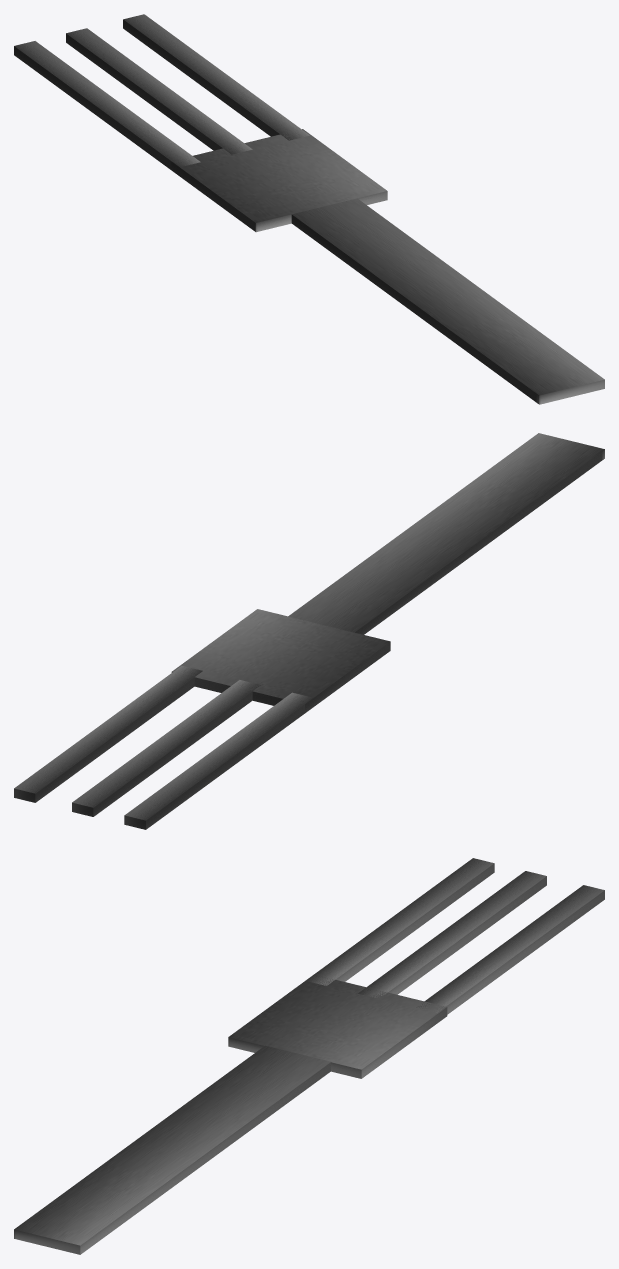
Rendered from Fork.glb.
The picture shows the model from 3 angles, top to bottom: view 1: azimuth 30°, elevation 25°; view 2: azimuth 150°, elevation 25°; view 3: azimuth 330°, elevation 25°; orthographic projection.
Parts seen in each view (by area): view 1: Cube.004; view 2: Cube.004; view 3: Cube.004.
Part boxes in pixels (x1=…): Cube.004: x1=14, y1=14, x2=604, y2=404; Cube.004: x1=14, y1=433, x2=604, y2=829; Cube.004: x1=14, y1=858, x2=604, y2=1254.
Size of the model in its own units: 0.917 by 0.0614 by 5.91.
1 material, 1 textured.
